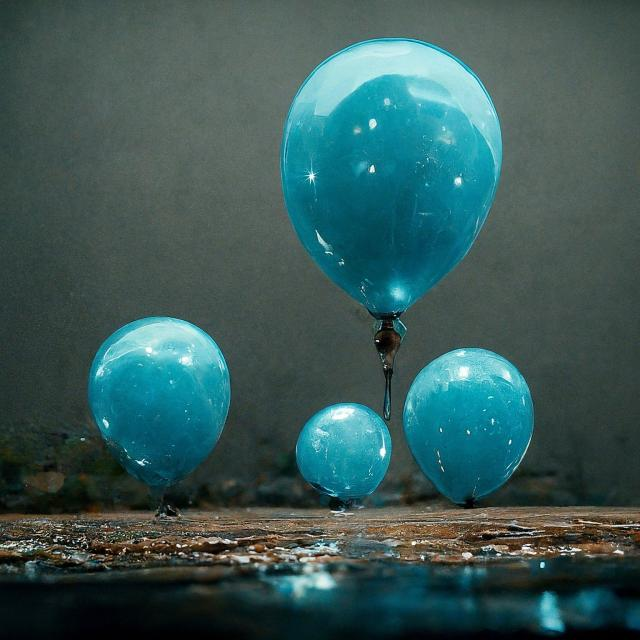blue: (288, 39, 507, 322), (91, 319, 233, 485), (407, 349, 534, 508), (294, 404, 393, 506)
